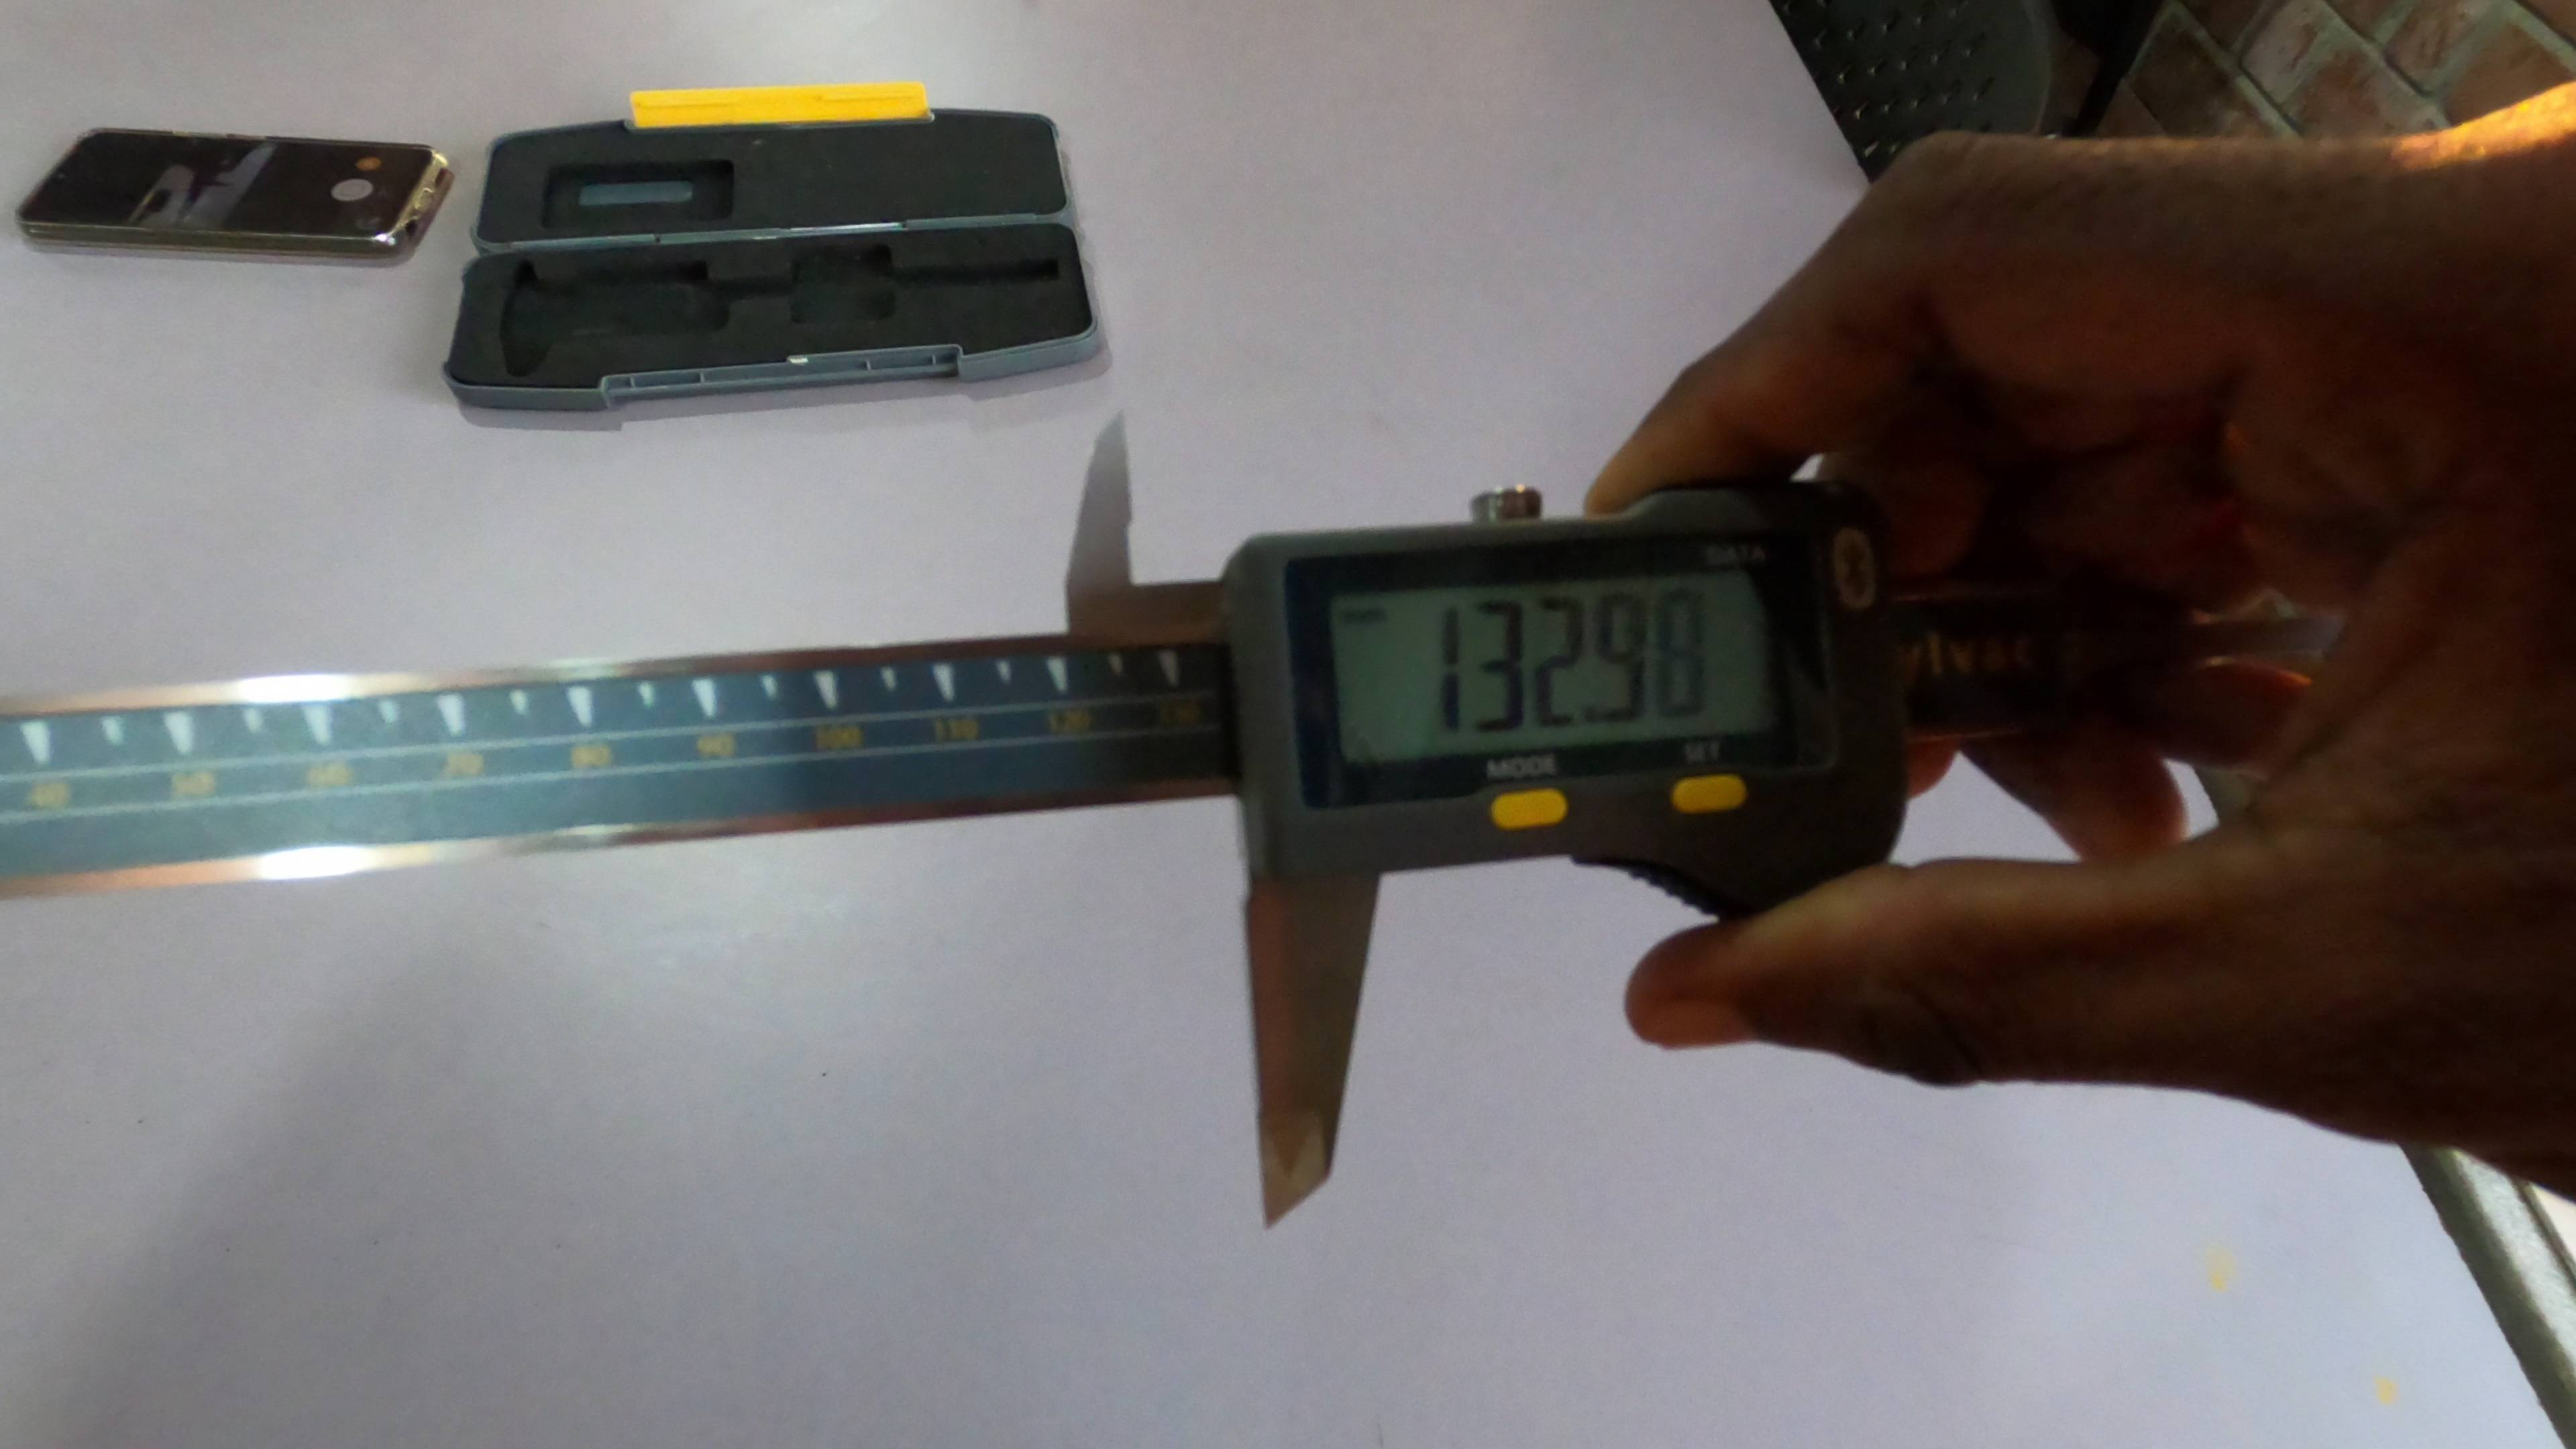vernier_caliper: (19, 410, 1904, 1230)
